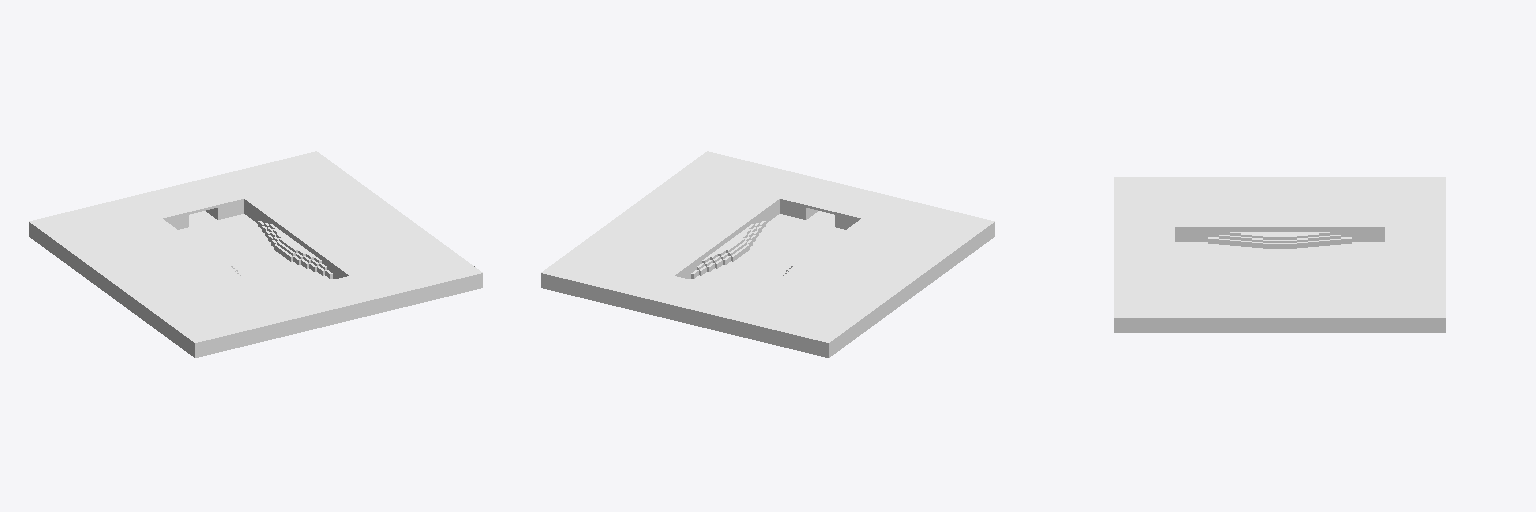
File: arenaLongNoWalls.obj
3 renders of one model, left to right at view 1: azimuth 30°, elevation 25°; view 2: azimuth 150°, elevation 25°; view 3: azimuth 270°, elevation 25°, orthographic.
Parts seen in each view (by area): view 1: object 1; view 2: object 1; view 3: object 1.
Part boxes in pixels (left/top/right/bottom): object 1: left=29, top=151, right=482, bottom=357; object 1: left=541, top=151, right=994, bottom=357; object 1: left=1114, top=177, right=1445, bottom=332.
Size of the model in its own units: 12 by 0.7 by 12.